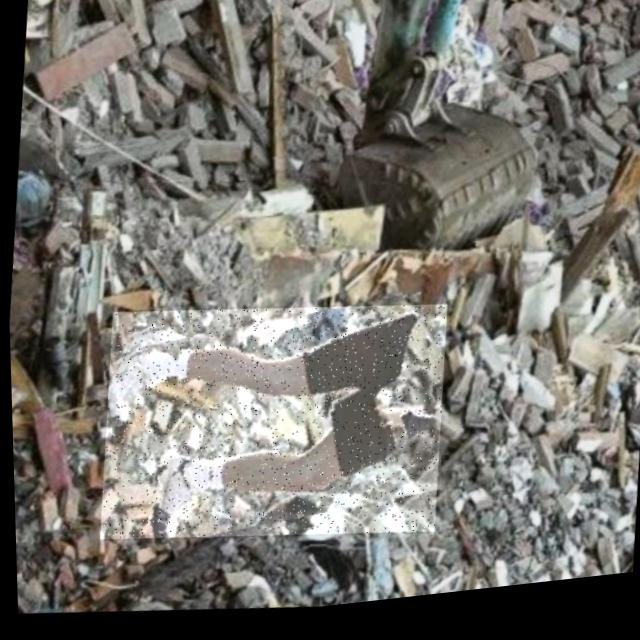Person in Rubble: (90, 285, 449, 570)
